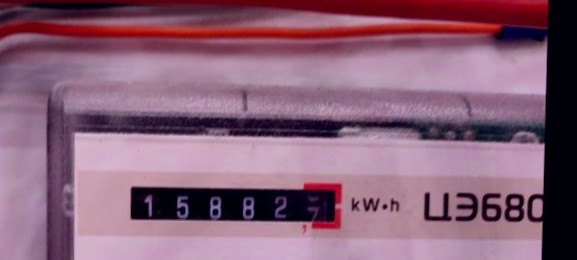1: (139, 189, 154, 218)
2: (270, 192, 287, 220)
5: (171, 191, 190, 219)
7: (302, 203, 318, 220)
8: (204, 192, 221, 221), (238, 192, 254, 220)
screen: (113, 169, 350, 237)
